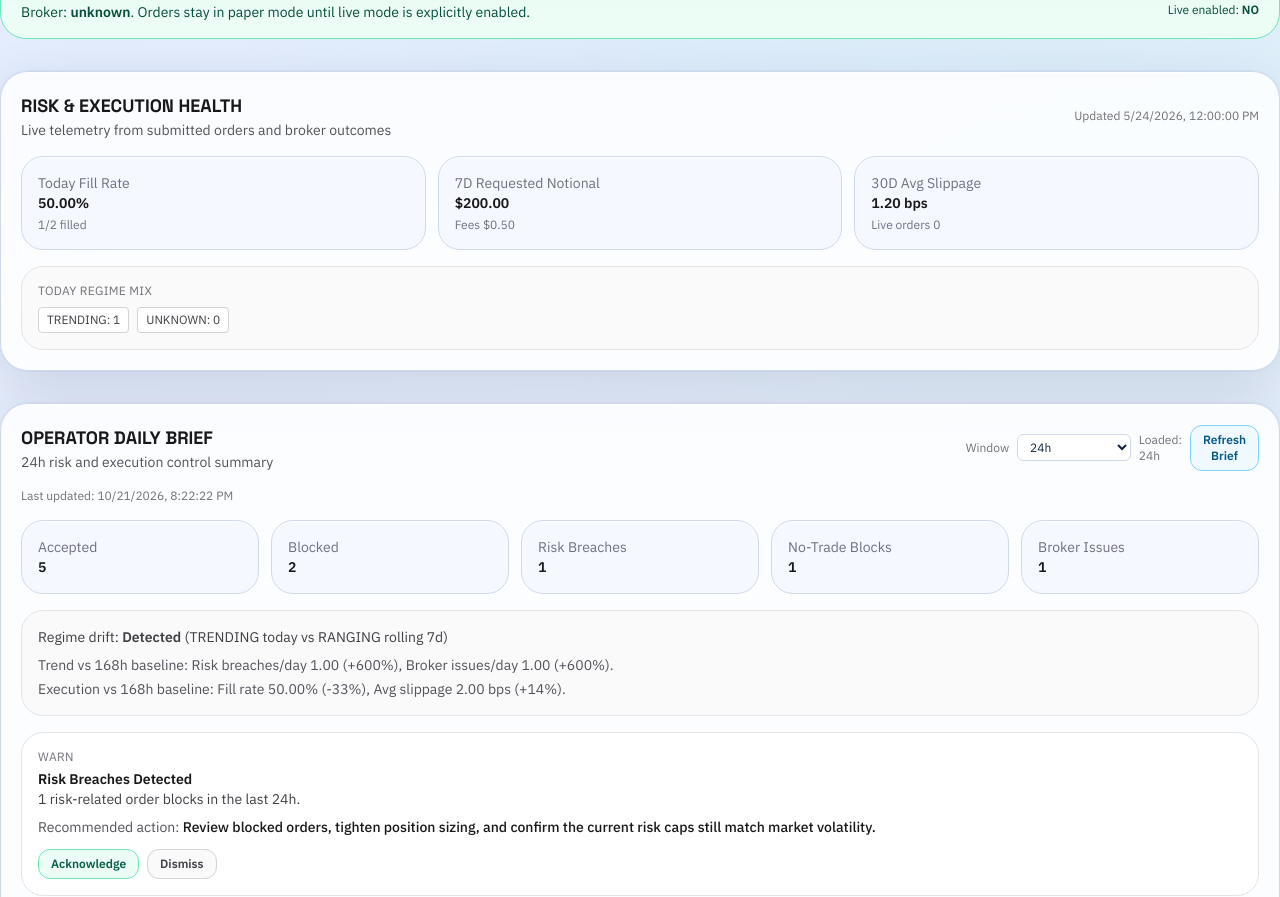
TradingSignals › requests operator brief for selected time window
(page scrolled)
Expected: the heading "Operator Daily Brief" is shown, [21, 426, 213, 448]
Expected: the text "24h risk and execution control summary" is shown, [21, 452, 273, 472]
Select "72h" in the dropdown labelled "Window" at (1074, 448), box [1017, 434, 1131, 461]
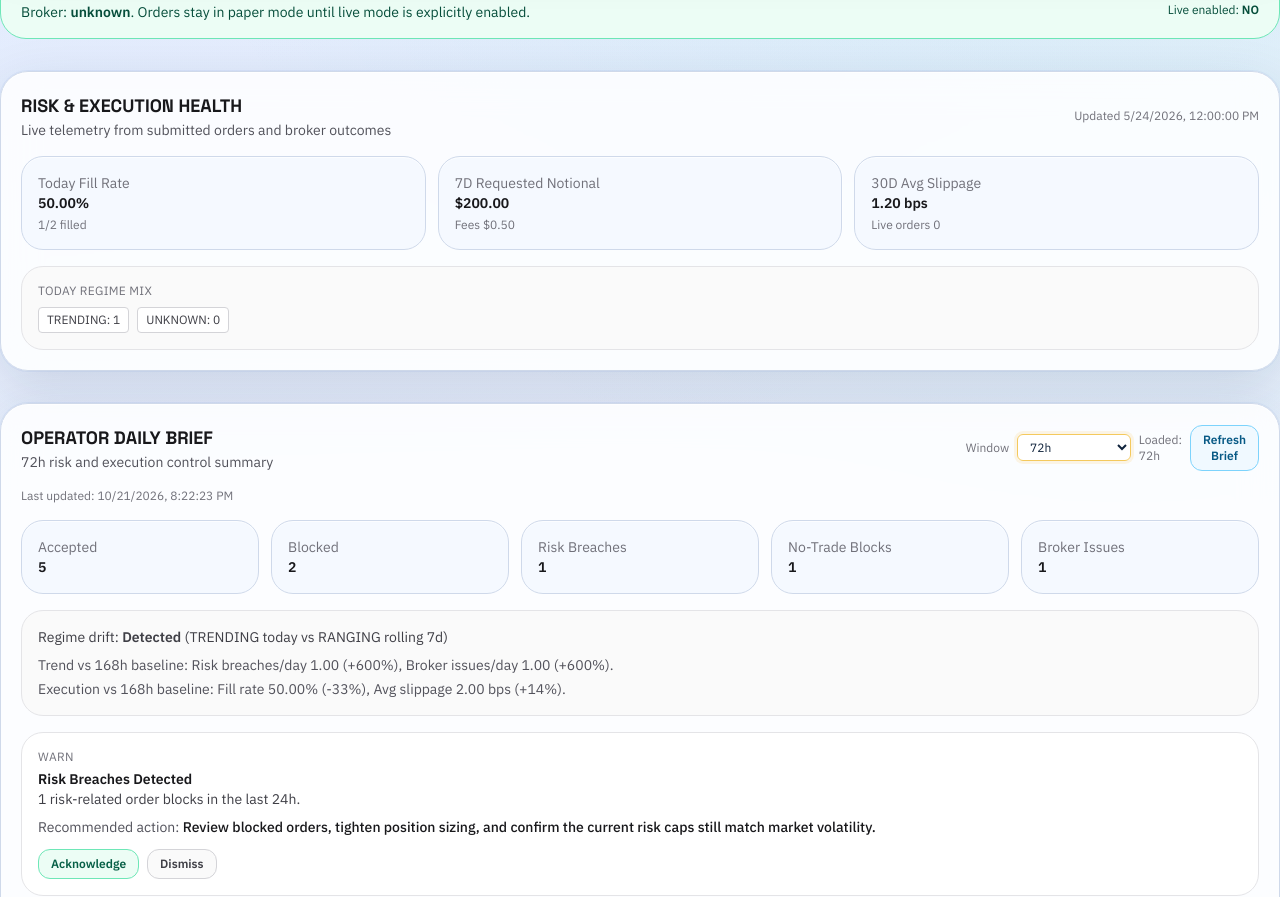
Expected: the text "72h risk and execution control summary" is shown, [21, 452, 273, 472]
